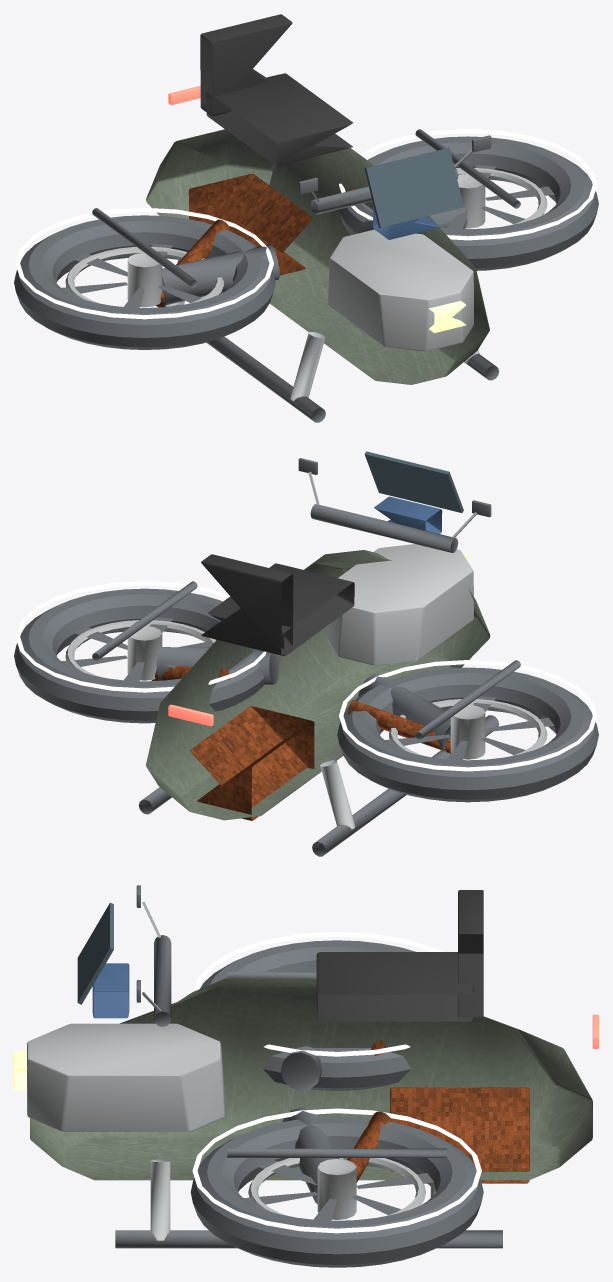
File: rastro_av4.glb
The picture shows the model from 3 angles, top to bottom: view 1: azimuth 30°, elevation 25°; view 2: azimuth 150°, elevation 25°; view 3: azimuth 270°, elevation 25°; orthographic projection. The views are drawn at different scales.
Visible parts, largest first — view 1: rastro_av4_steel_dark, rastro_av4_paint_olive, rastro_av4_metal_brushed, rastro_av4_rubber_v, rastro_av4_rust_gen, rastro_av4_glass_tinted, rastro_av4_lamp_cold_v, rastro_av4_ROTOR_helice_-1, rastro_av4, rastro_av4_solar, rastro_av4_lamp_amber; view 2: rastro_av4_steel_dark, rastro_av4_metal_brushed, rastro_av4_paint_olive, rastro_av4_rust_gen, rastro_av4_rubber_v, rastro_av4_lamp_cold_v, rastro_av4_glass_tinted, rastro_av4_solar, rastro_av4_ROTOR_helice_-1, rastro_av4, rastro_av4_lamp_red; view 3: rastro_av4_paint_olive, rastro_av4_steel_dark, rastro_av4_metal_brushed, rastro_av4_rubber_v, rastro_av4_rust_gen, rastro_av4_lamp_cold_v, rastro_av4, rastro_av4_glass_tinted, rastro_av4_solar, rastro_av4_lamp_amber.
Boxes of the visible parts, x1,y1,x2,y2 form: rastro_av4_steel_dark: [14, 129, 598, 422]; rastro_av4_paint_olive: [146, 129, 489, 384]; rastro_av4_metal_brushed: [65, 149, 547, 400]; rastro_av4_rubber_v: [200, 14, 352, 165]; rastro_av4_rust_gen: [156, 173, 353, 307]; rastro_av4_glass_tinted: [364, 147, 463, 227]; rastro_av4_lamp_cold_v: [15, 129, 597, 319]; rastro_av4_ROTOR_helice_-1: [62, 243, 201, 307]; rastro_av4: [447, 165, 554, 228]; rastro_av4_solar: [373, 205, 440, 239]; rastro_av4_lamp_amber: [429, 300, 465, 332]; rastro_av4_steel_dark: [14, 458, 598, 856]; rastro_av4_metal_brushed: [65, 471, 547, 829]; rastro_av4_paint_olive: [146, 550, 490, 820]; rastro_av4_rust_gen: [151, 666, 451, 820]; rastro_av4_rubber_v: [201, 554, 354, 656]; rastro_av4_lamp_cold_v: [15, 581, 597, 771]; rastro_av4_glass_tinted: [364, 451, 463, 512]; rastro_av4_solar: [374, 496, 442, 533]; rastro_av4_ROTOR_helice_-1: [385, 696, 554, 759]; rastro_av4: [61, 617, 212, 680]; rastro_av4_lamp_red: [168, 704, 213, 726]; rastro_av4_paint_olive: [30, 978, 592, 1180]; rastro_av4_steel_dark: [115, 885, 502, 1267]; rastro_av4_metal_brushed: [27, 901, 435, 1240]; rastro_av4_rubber_v: [316, 890, 483, 1021]; rastro_av4_rust_gen: [347, 1040, 529, 1183]; rastro_av4_lamp_cold_v: [192, 932, 481, 1233]; rastro_av4: [244, 1158, 433, 1220]; rastro_av4_glass_tinted: [77, 902, 113, 1004]; rastro_av4_solar: [92, 963, 129, 1018]; rastro_av4_lamp_amber: [14, 1050, 27, 1090].
Bounding box in the file's own units: 3.3 × 1.48 × 2.72.
10 materials, 2 textured.
